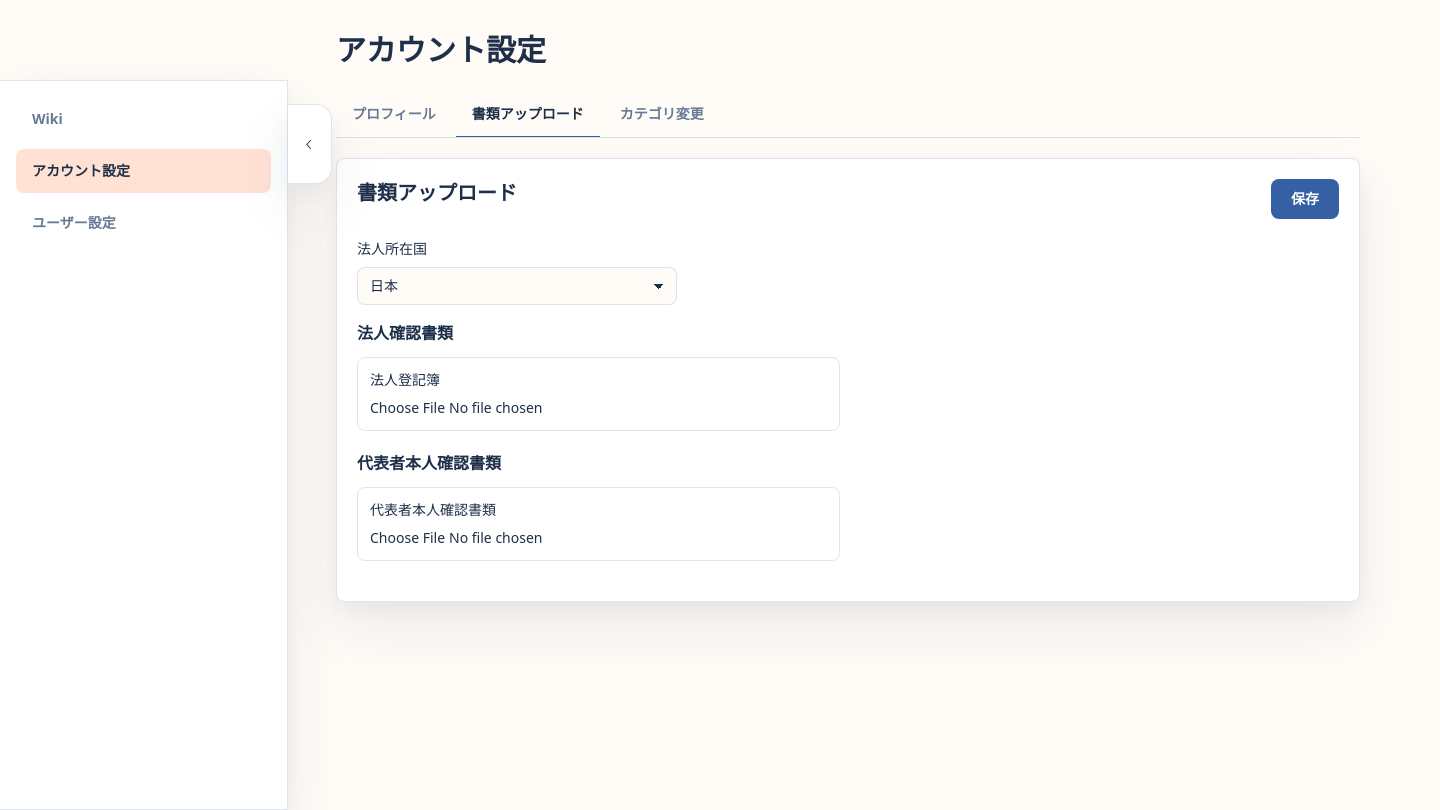
Test: admin page clients › saves an empty document set without requiring documents
expect the heading "書類アップロード" is shown: met, box [357,179,517,207]
expect the heading "法人確認書類" is shown: met, box [357,322,453,344]
Select "韓国" in the dropdown labelled "法人所在国". click: (517, 286)
box: [357,267,677,305]
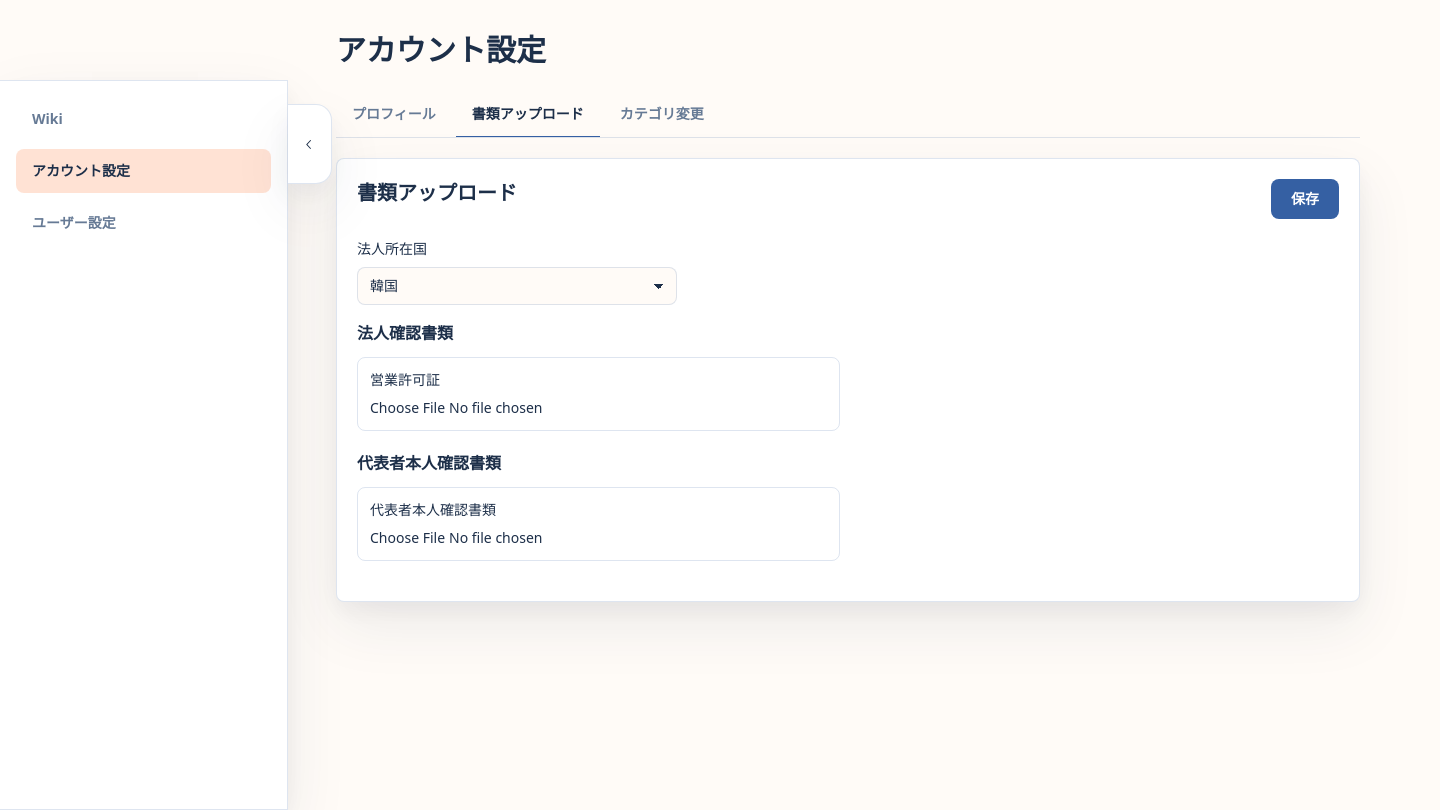
expect the text "営業許可証" is shown: met, box [370,370,440,389]
expect the text "法人登記簿" is gone: met
Select "その他" in the dropdown labelled "法人所在国". click: (517, 286)
box: [357,267,677,305]
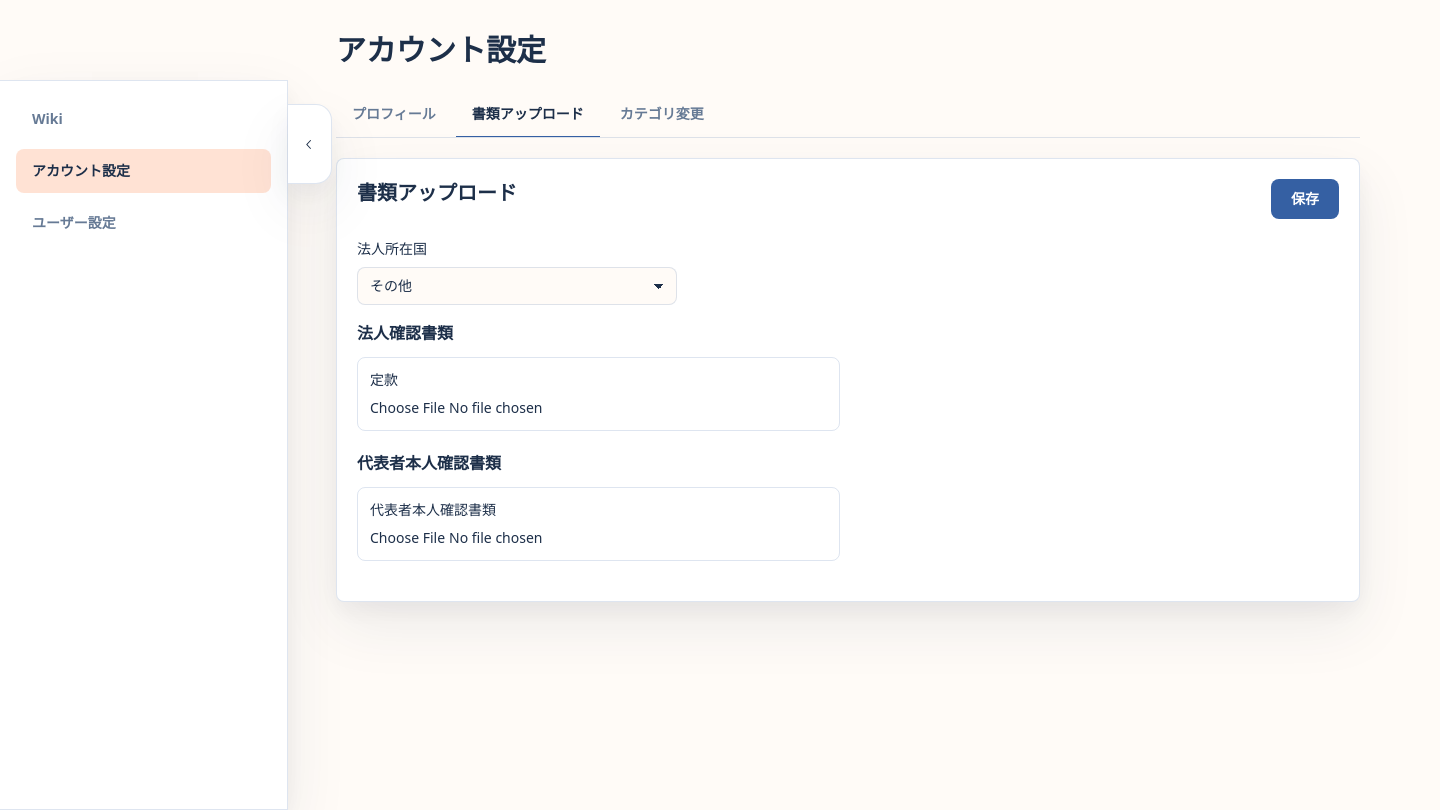
expect the text "定款" is shown: met, box [370,370,398,389]
expect the text "営業許可証" is gone: met
Click the button "保存". click: (1305, 199)
box: [1271,179,1339,219]
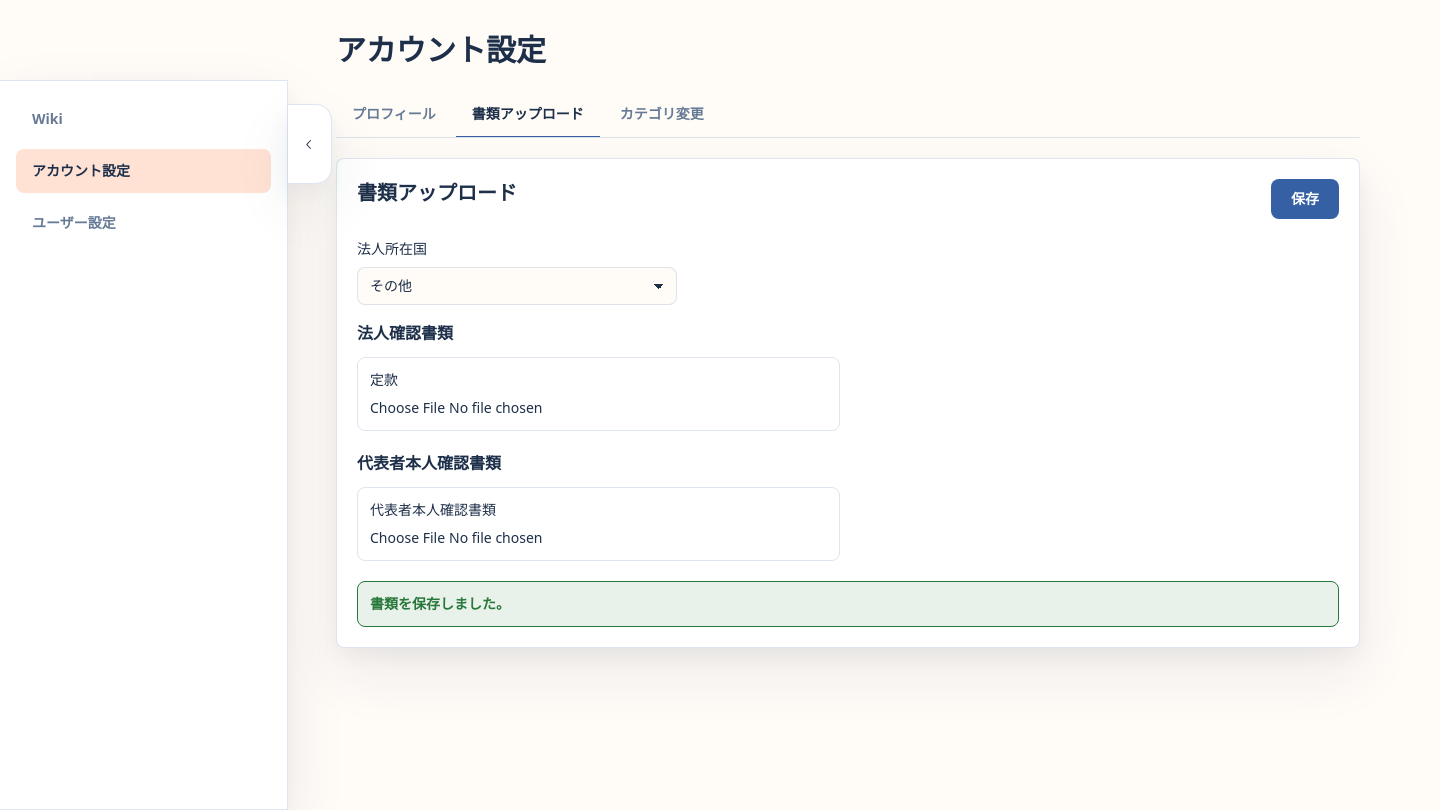
expect the message reads "書類を保存しました。": met, box [370,594,510,613]
